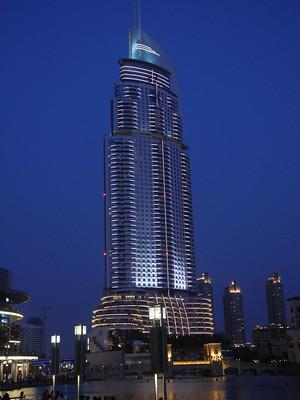building: (83, 22, 218, 394)
